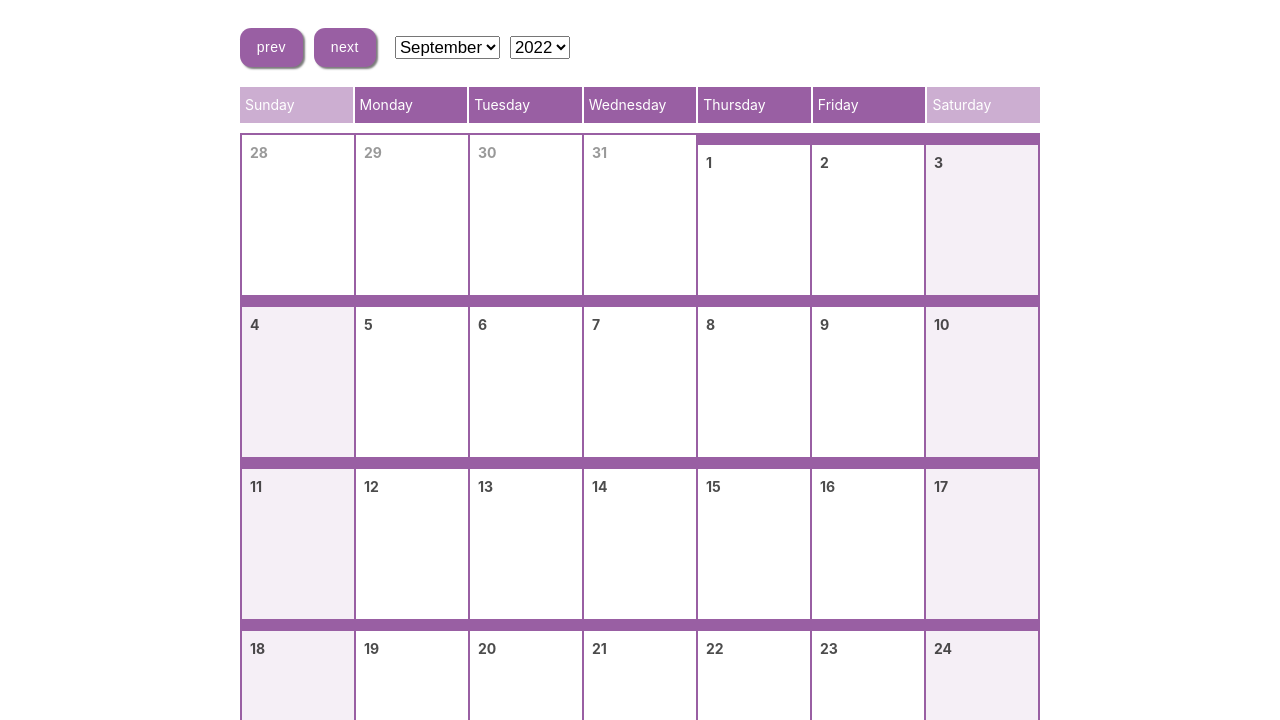
Test: Adding a reminder
The width and height of the screenshot is (1280, 720).
Click the text "15" at (713, 486), box [706,478,721,495]
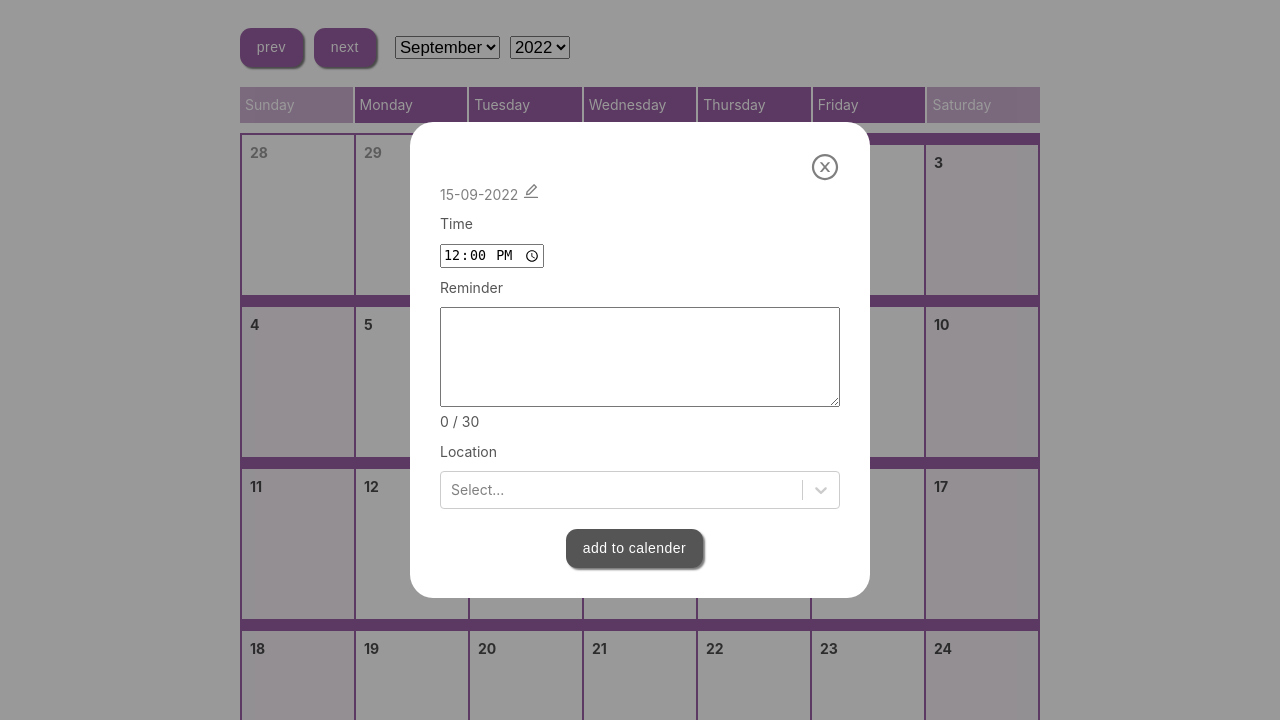
Click the text "15-09-2022" at (490, 192), box [440,182,540,203]
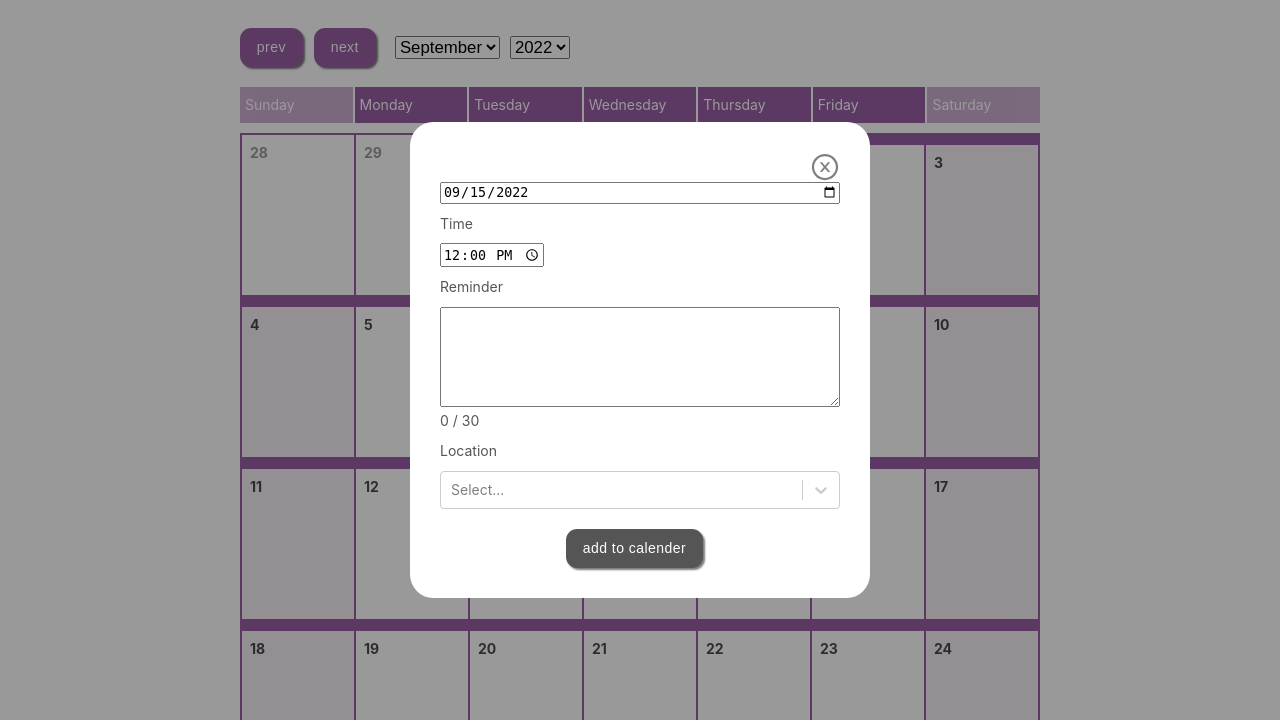
Type "Test entry" into the text box at (640, 357), box [440,307,840,407]
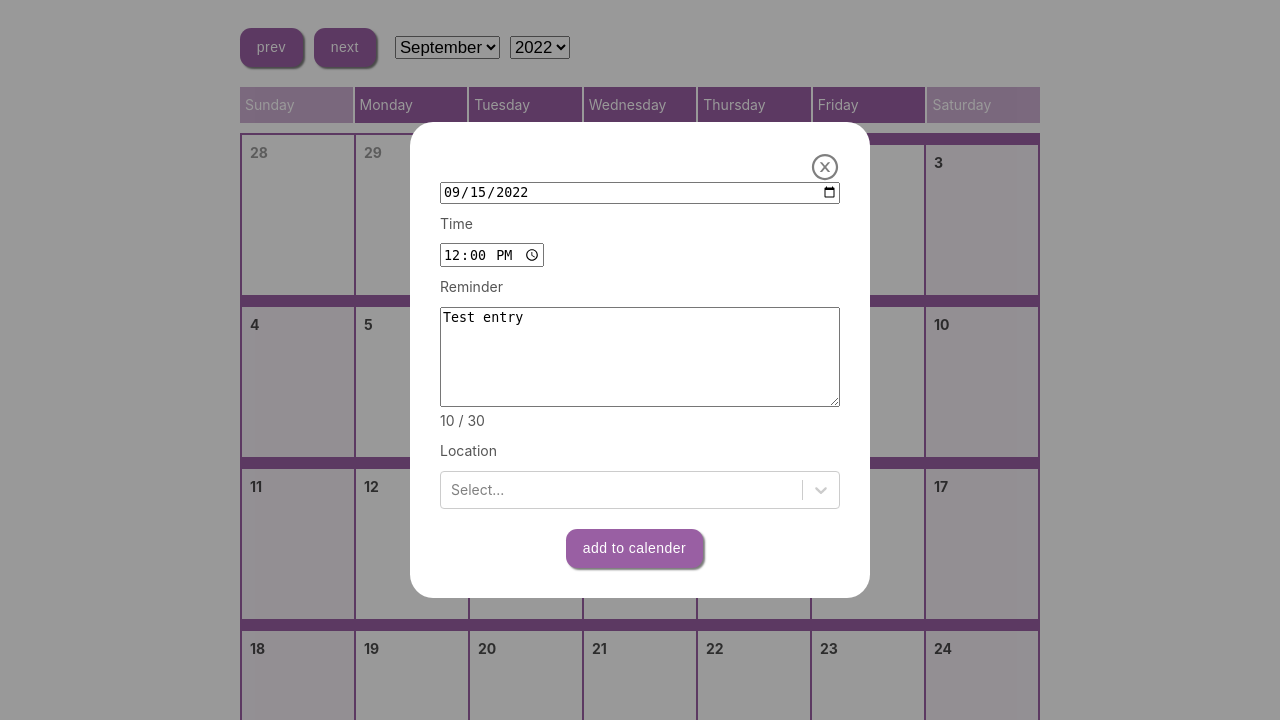
Click the button "Add to calender" at (634, 548), box [566,529,703,568]
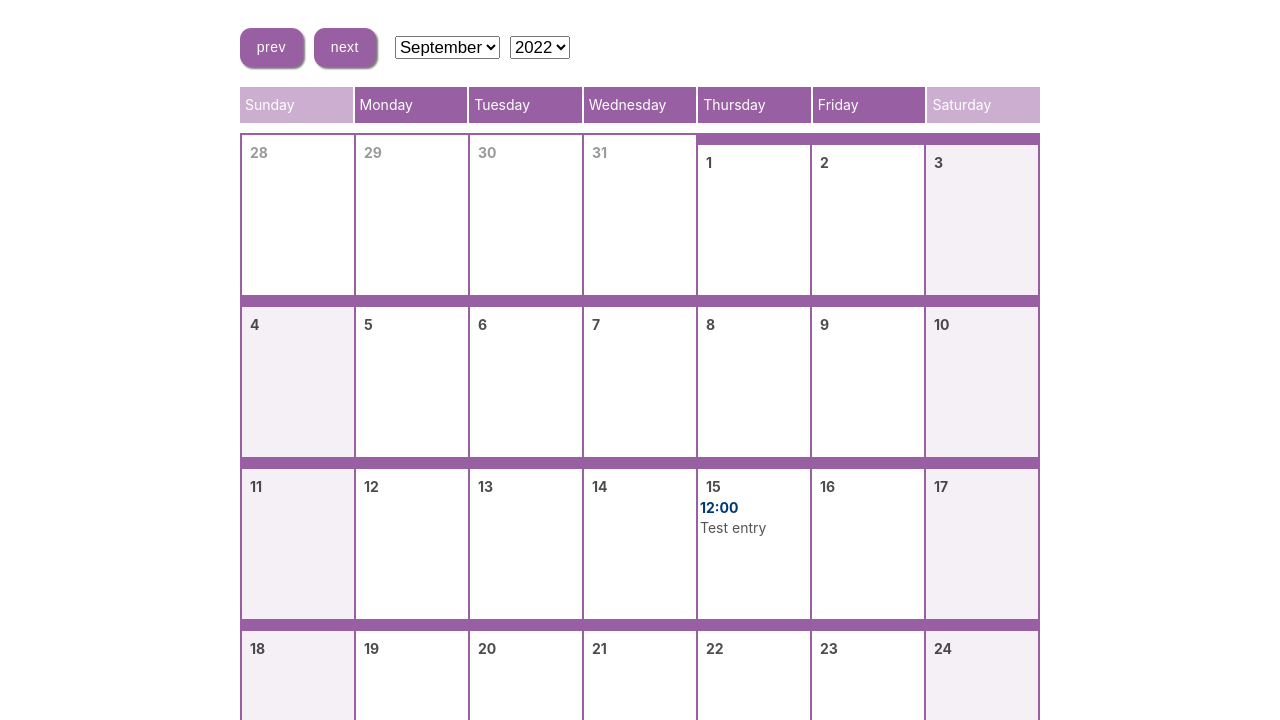
Expected: the text with test id "characterCount" is gone
Expected: the text "12:00 Test entry" is shown, [700,499,766,536]
